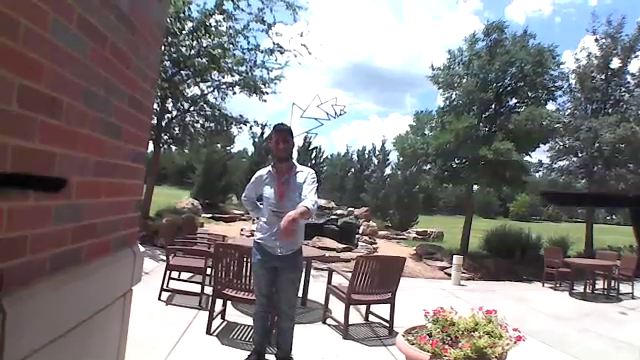down: (275, 208, 303, 247)
